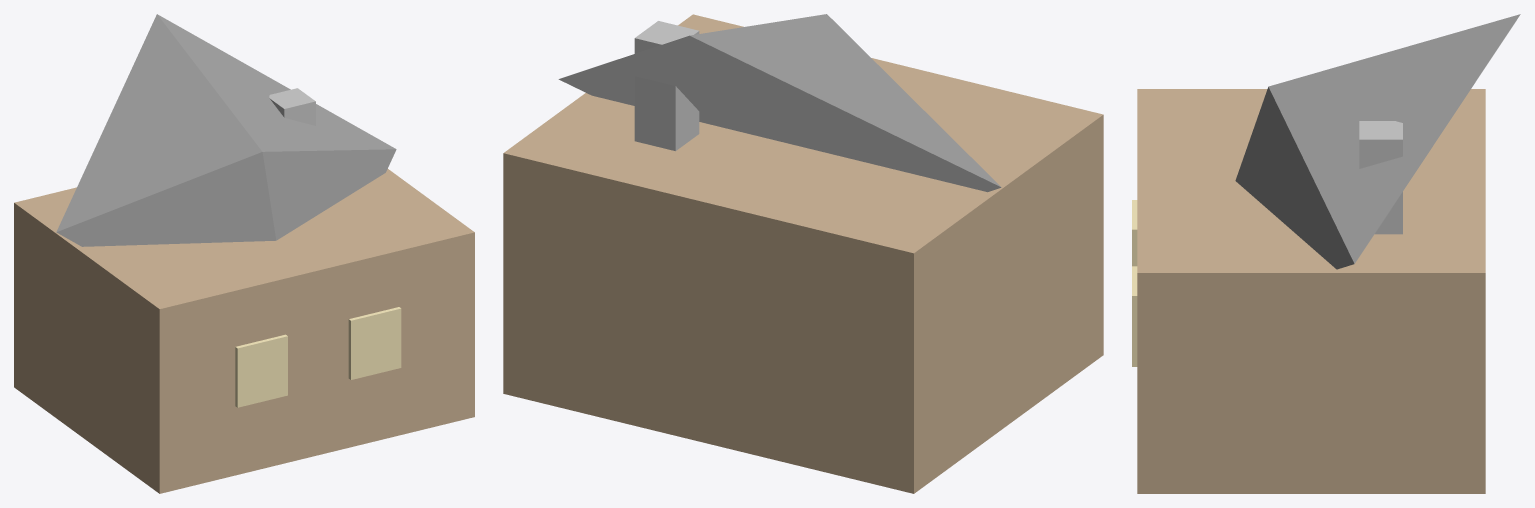
File: SM_Env_Farmhouse_01.glb
The picture shows the model from 3 angles, left to right: view 1: azimuth 30°, elevation 25°; view 2: azimuth 150°, elevation 25°; view 3: azimuth 270°, elevation 25°; orthographic projection. The views are drawn at different scales.
Parts seen in each view (by area): view 1: SM_House_Wall, SM_House_Roof, SM_House_WinR, SM_House_WinL, SM_House_Chimney; view 2: SM_House_Wall, SM_House_Roof, SM_House_Chimney; view 3: SM_House_Wall, SM_House_Roof, SM_House_Chimney, SM_House_WinR.
Boxes of the visible parts, x1,y1,x2,y2 form: SM_House_Wall: (14, 169, 474, 493); SM_House_Roof: (56, 14, 396, 246); SM_House_WinR: (348, 307, 401, 379); SM_House_WinL: (235, 334, 287, 407); SM_House_Chimney: (269, 88, 315, 125); SM_House_Wall: (503, 14, 1103, 493); SM_House_Roof: (558, 14, 1001, 192); SM_House_Chimney: (634, 21, 699, 151); SM_House_Wall: (1137, 89, 1485, 493); SM_House_Roof: (1235, 14, 1520, 269); SM_House_Chimney: (1359, 121, 1402, 234); SM_House_WinR: (1132, 266, 1137, 366).
Bounding box in the file's own units: 5.4 × 4.91 × 4.46.
